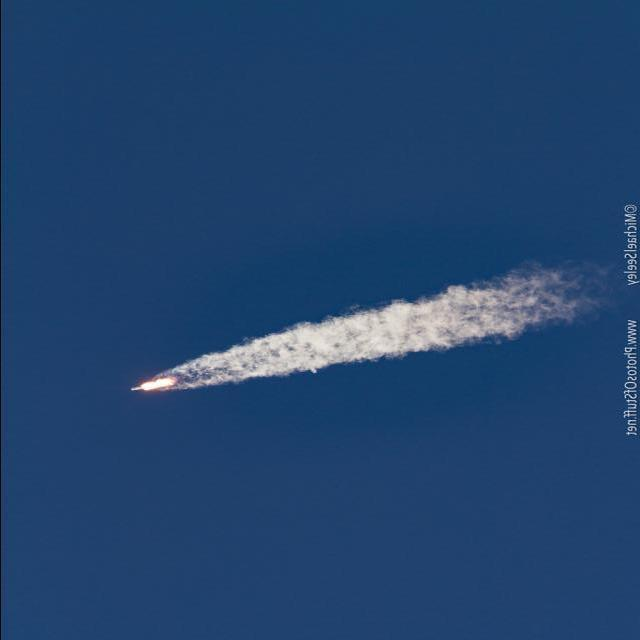missile: (129, 379, 148, 400)
